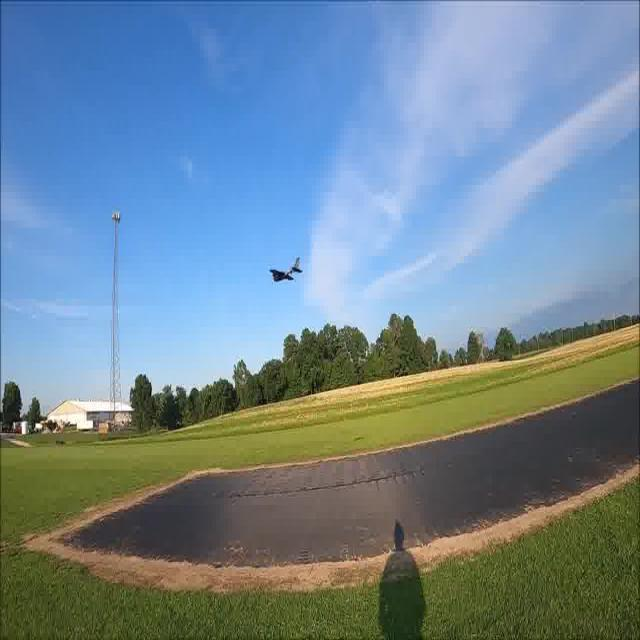iha: (266, 235, 306, 288)
